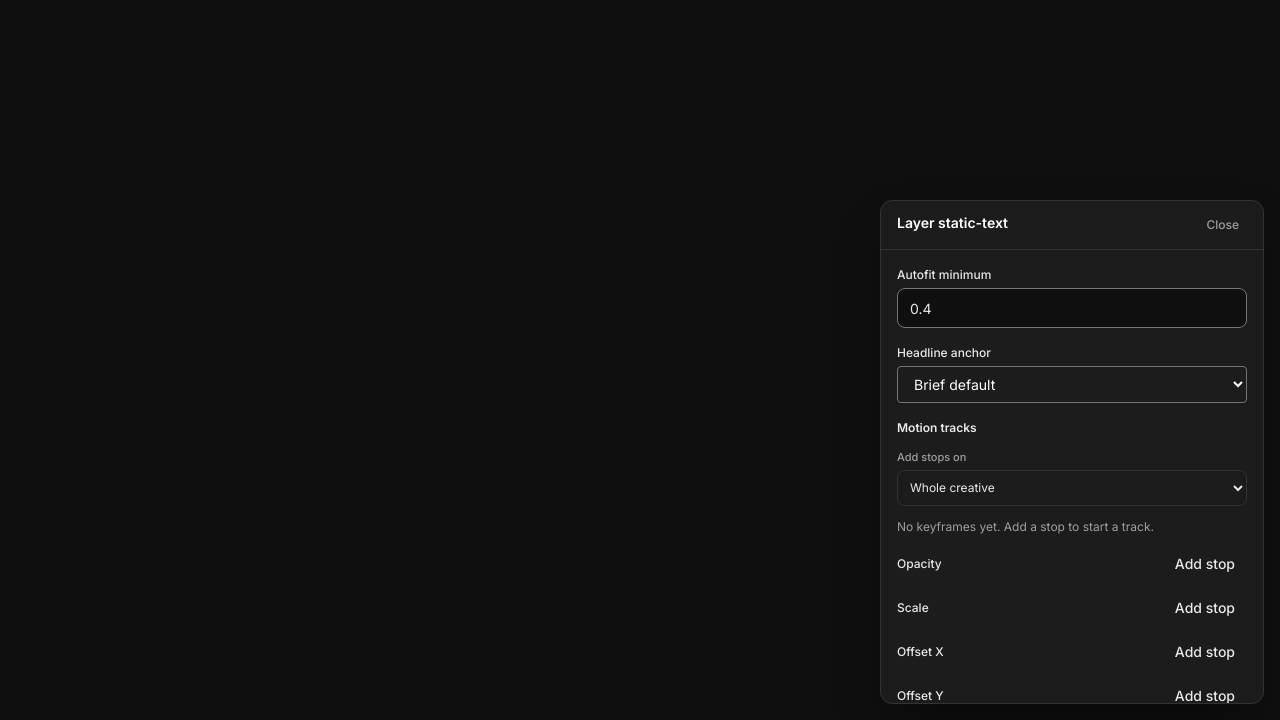
Test case: authoring a stop › a stop the domain would refuse disables the control and says why, in the domain's words
This screenshot has width=1280, height=720.
Click the button "Add stop" in the row of "Opacity": (1205, 564) [1163,548,1247,580]
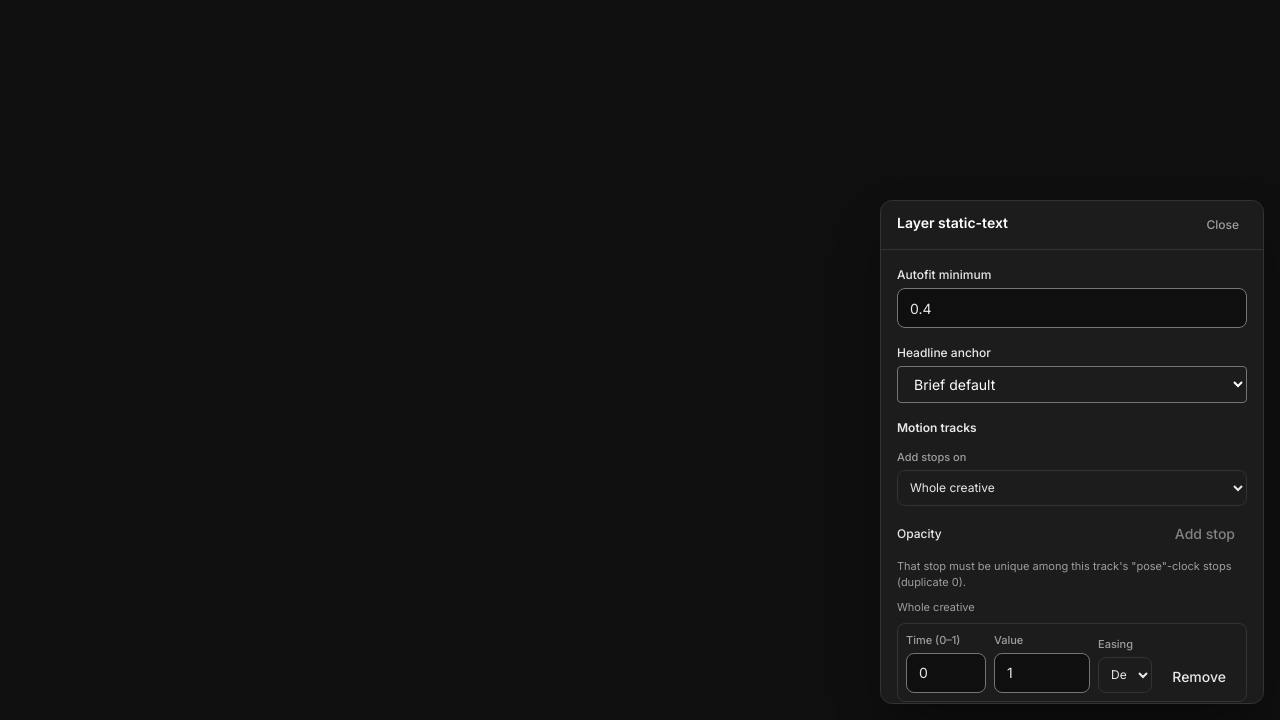
Check: the message shows "unique", box [897,558,1231,589]
